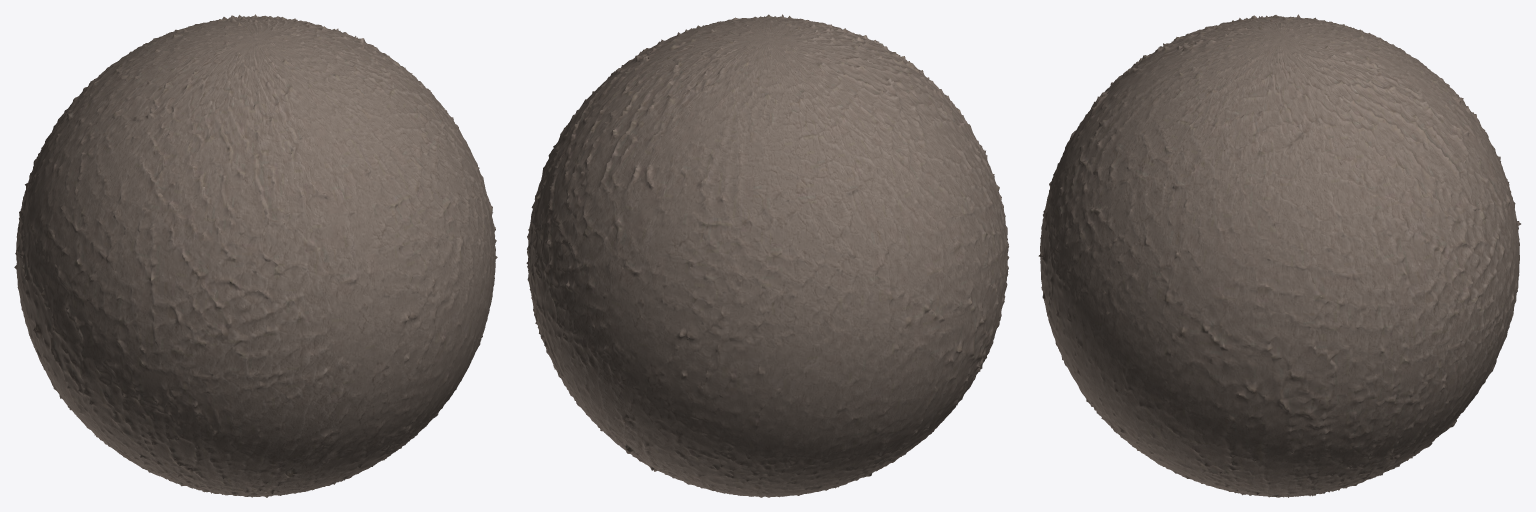
Rendered from ceiling_interior_1k.gltf.
3 renders of one model, left to right at view 1: azimuth 30°, elevation 25°; view 2: azimuth 150°, elevation 25°; view 3: azimuth 270°, elevation 25°, orthographic.
Parts seen in each view (by area): view 1: sphere_gltf; view 2: sphere_gltf; view 3: sphere_gltf.
Part boxes in pixels (x1=…): sphere_gltf: x1=14, y1=14, x2=497, y2=497; sphere_gltf: x1=526, y1=14, x2=1009, y2=497; sphere_gltf: x1=1038, y1=14, x2=1520, y2=497.
Size of the model in its own units: 2 by 1.99 by 2.
1 material, 1 textured.
